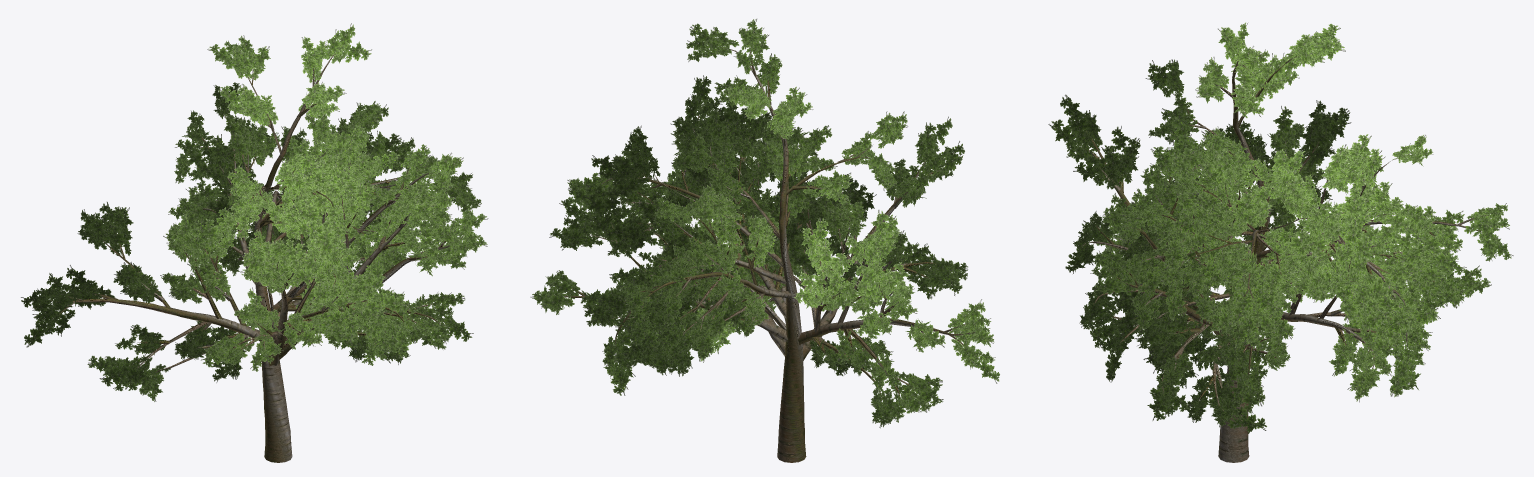
File: tree_oak_a_lod0.glb
3 renders of one model, left to right at view 1: azimuth 30°, elevation 25°; view 2: azimuth 150°, elevation 25°; view 3: azimuth 270°, elevation 25°, orthographic. The views are drawn at different scales.
Parts seen in each view (by area): view 1: oak_a; view 2: oak_a; view 3: oak_a.
Part boxes in pixels (x1,y1,x2,y2): oak_a: (21, 23, 488, 462); oak_a: (530, 19, 999, 462); oak_a: (1048, 22, 1513, 462).
Size of the model in its own units: 14.57 by 13 by 12.36.
Materials: 2 (2 with a texture image).
